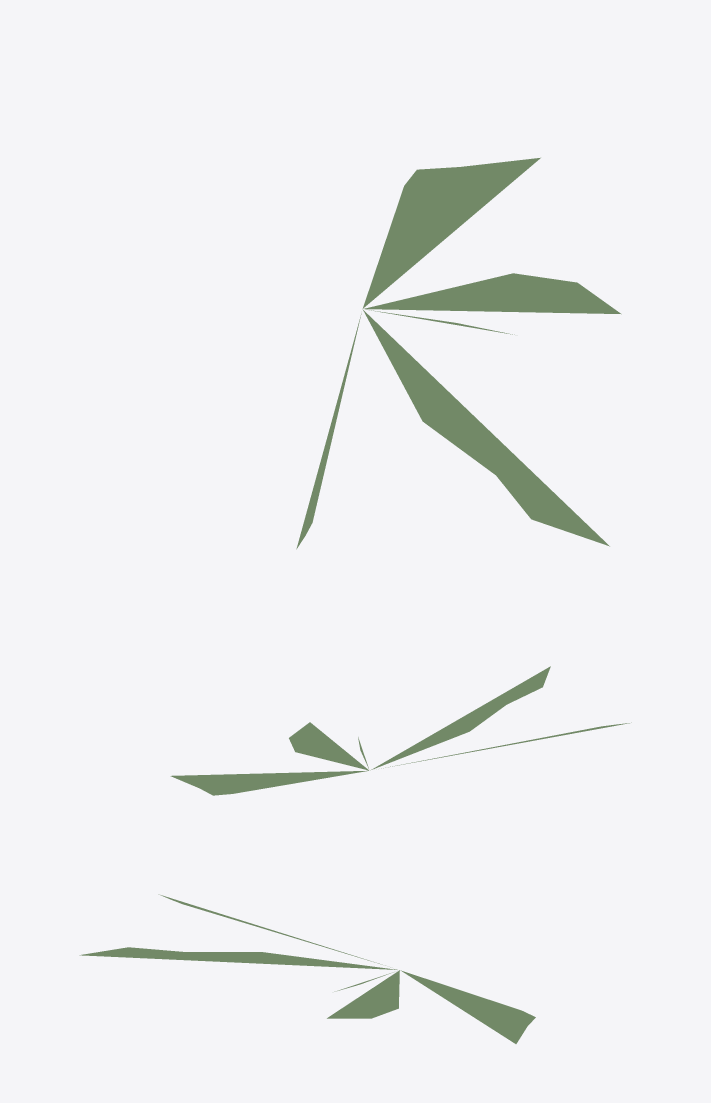
Rendered from c_1647_17840_parks.glb.
The picture shows the model from 3 angles, top to bottom: view 1: azimuth 30°, elevation 25°; view 2: azimuth 150°, elevation 25°; view 3: azimuth 270°, elevation 25°; orthographic projection. The views are drawn at different scales.
Visible parts, largest first — view 1: geometry_0; view 2: geometry_0; view 3: geometry_0.
Boxes of the visible parts, left/top/right/bottom form: geometry_0: left=296, top=157, right=621, bottom=549; geometry_0: left=170, top=666, right=631, bottom=795; geometry_0: left=79, top=894, right=535, bottom=1043.
Size of the model in its own units: 960 by 0 by 1367.
